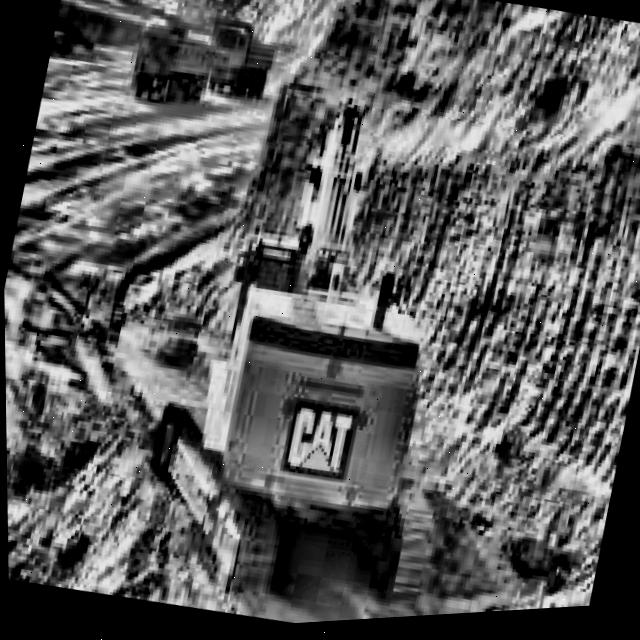dump_truck: (121, 15, 220, 118), (204, 22, 280, 107)
excavator: (115, 62, 525, 635)
